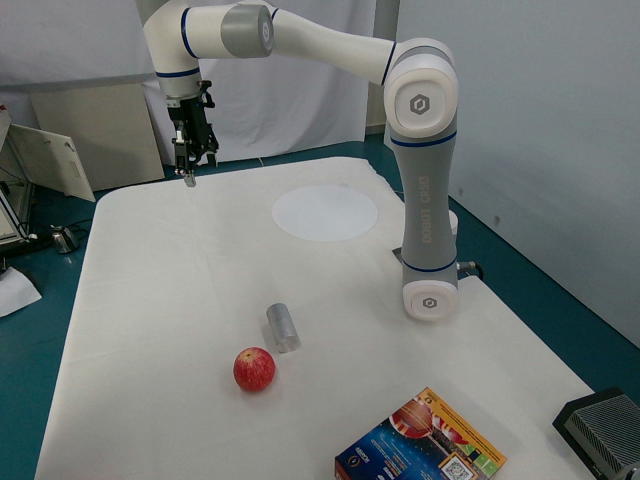apple: (229, 342, 280, 395)
metalROD: (261, 295, 305, 356)
